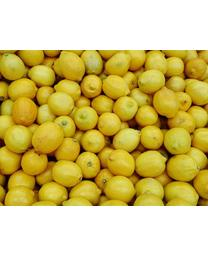lemon: (32, 121, 64, 157), (104, 174, 137, 202), (4, 124, 32, 155), (134, 151, 167, 176), (50, 160, 83, 185), (13, 96, 39, 127), (168, 156, 199, 181), (108, 150, 134, 178), (164, 128, 191, 153), (137, 68, 164, 92), (112, 96, 138, 120), (59, 56, 84, 80), (75, 107, 99, 131), (47, 94, 75, 114), (82, 129, 105, 152), (99, 113, 122, 136), (142, 125, 162, 148)
